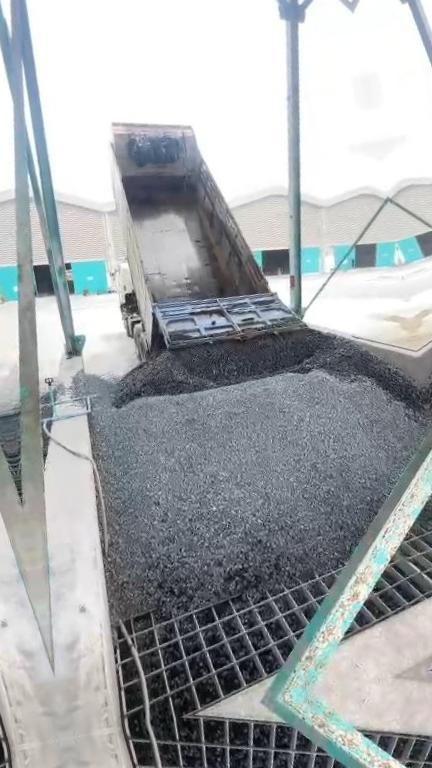gravel: (92, 345, 427, 618), (114, 329, 425, 408), (60, 368, 121, 406), (4, 406, 21, 499), (40, 392, 52, 429)
sand: (385, 315, 416, 350)
